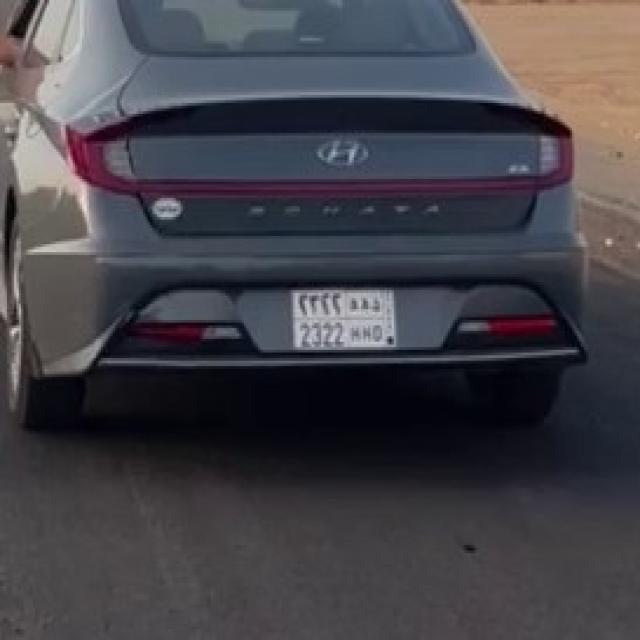Car-plate: (286, 268, 406, 362)
